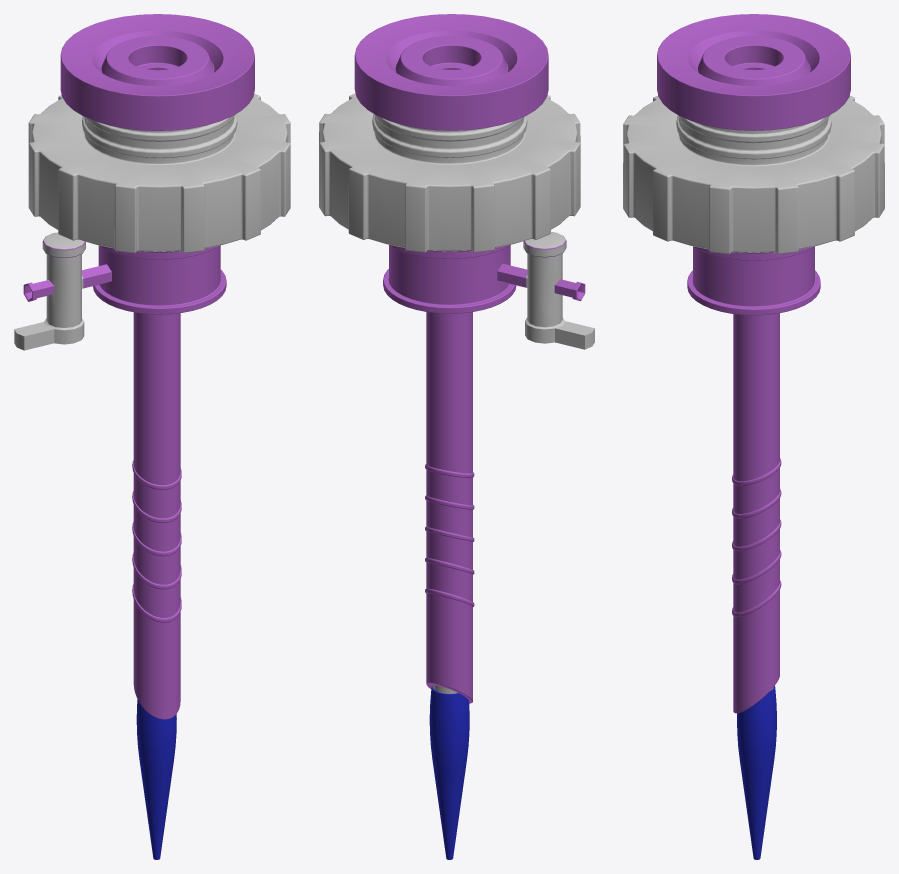
The model's file is Trocar1.fbx.
3 renders of one model, left to right at view 1: azimuth 30°, elevation 25°; view 2: azimuth 150°, elevation 25°; view 3: azimuth 270°, elevation 25°, orthographic.
Parts seen in each view (by area): view 1: WhiteCover_2, trocar_2, Back_2, Cylinder_2_2; view 2: WhiteCover_2, trocar_2, Back_2, Cylinder_2_2; view 3: WhiteCover_2, trocar_2, Back_2, Cylinder_2_2.
Part boxes in pixels (x1,y1,x2,y2): WhiteCover_2: [28, 93, 290, 253]; trocar_2: [14, 67, 226, 719]; Back_2: [60, 14, 254, 130]; Cylinder_2_2: [136, 699, 176, 859]; WhiteCover_2: [319, 93, 580, 252]; trocar_2: [383, 68, 594, 703]; Back_2: [354, 14, 548, 130]; Cylinder_2_2: [429, 686, 469, 859]; WhiteCover_2: [623, 95, 884, 254]; trocar_2: [687, 67, 820, 713]; Back_2: [657, 14, 850, 130]; Cylinder_2_2: [737, 686, 776, 859].
Size of the model in its own units: 26.66 by 80.01 by 23.62.
